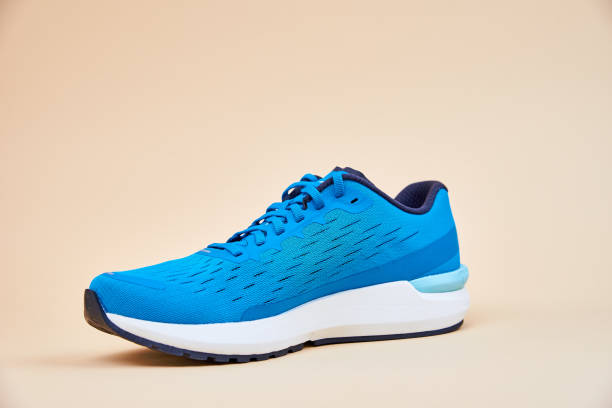Footwear: (79, 158, 478, 369)
